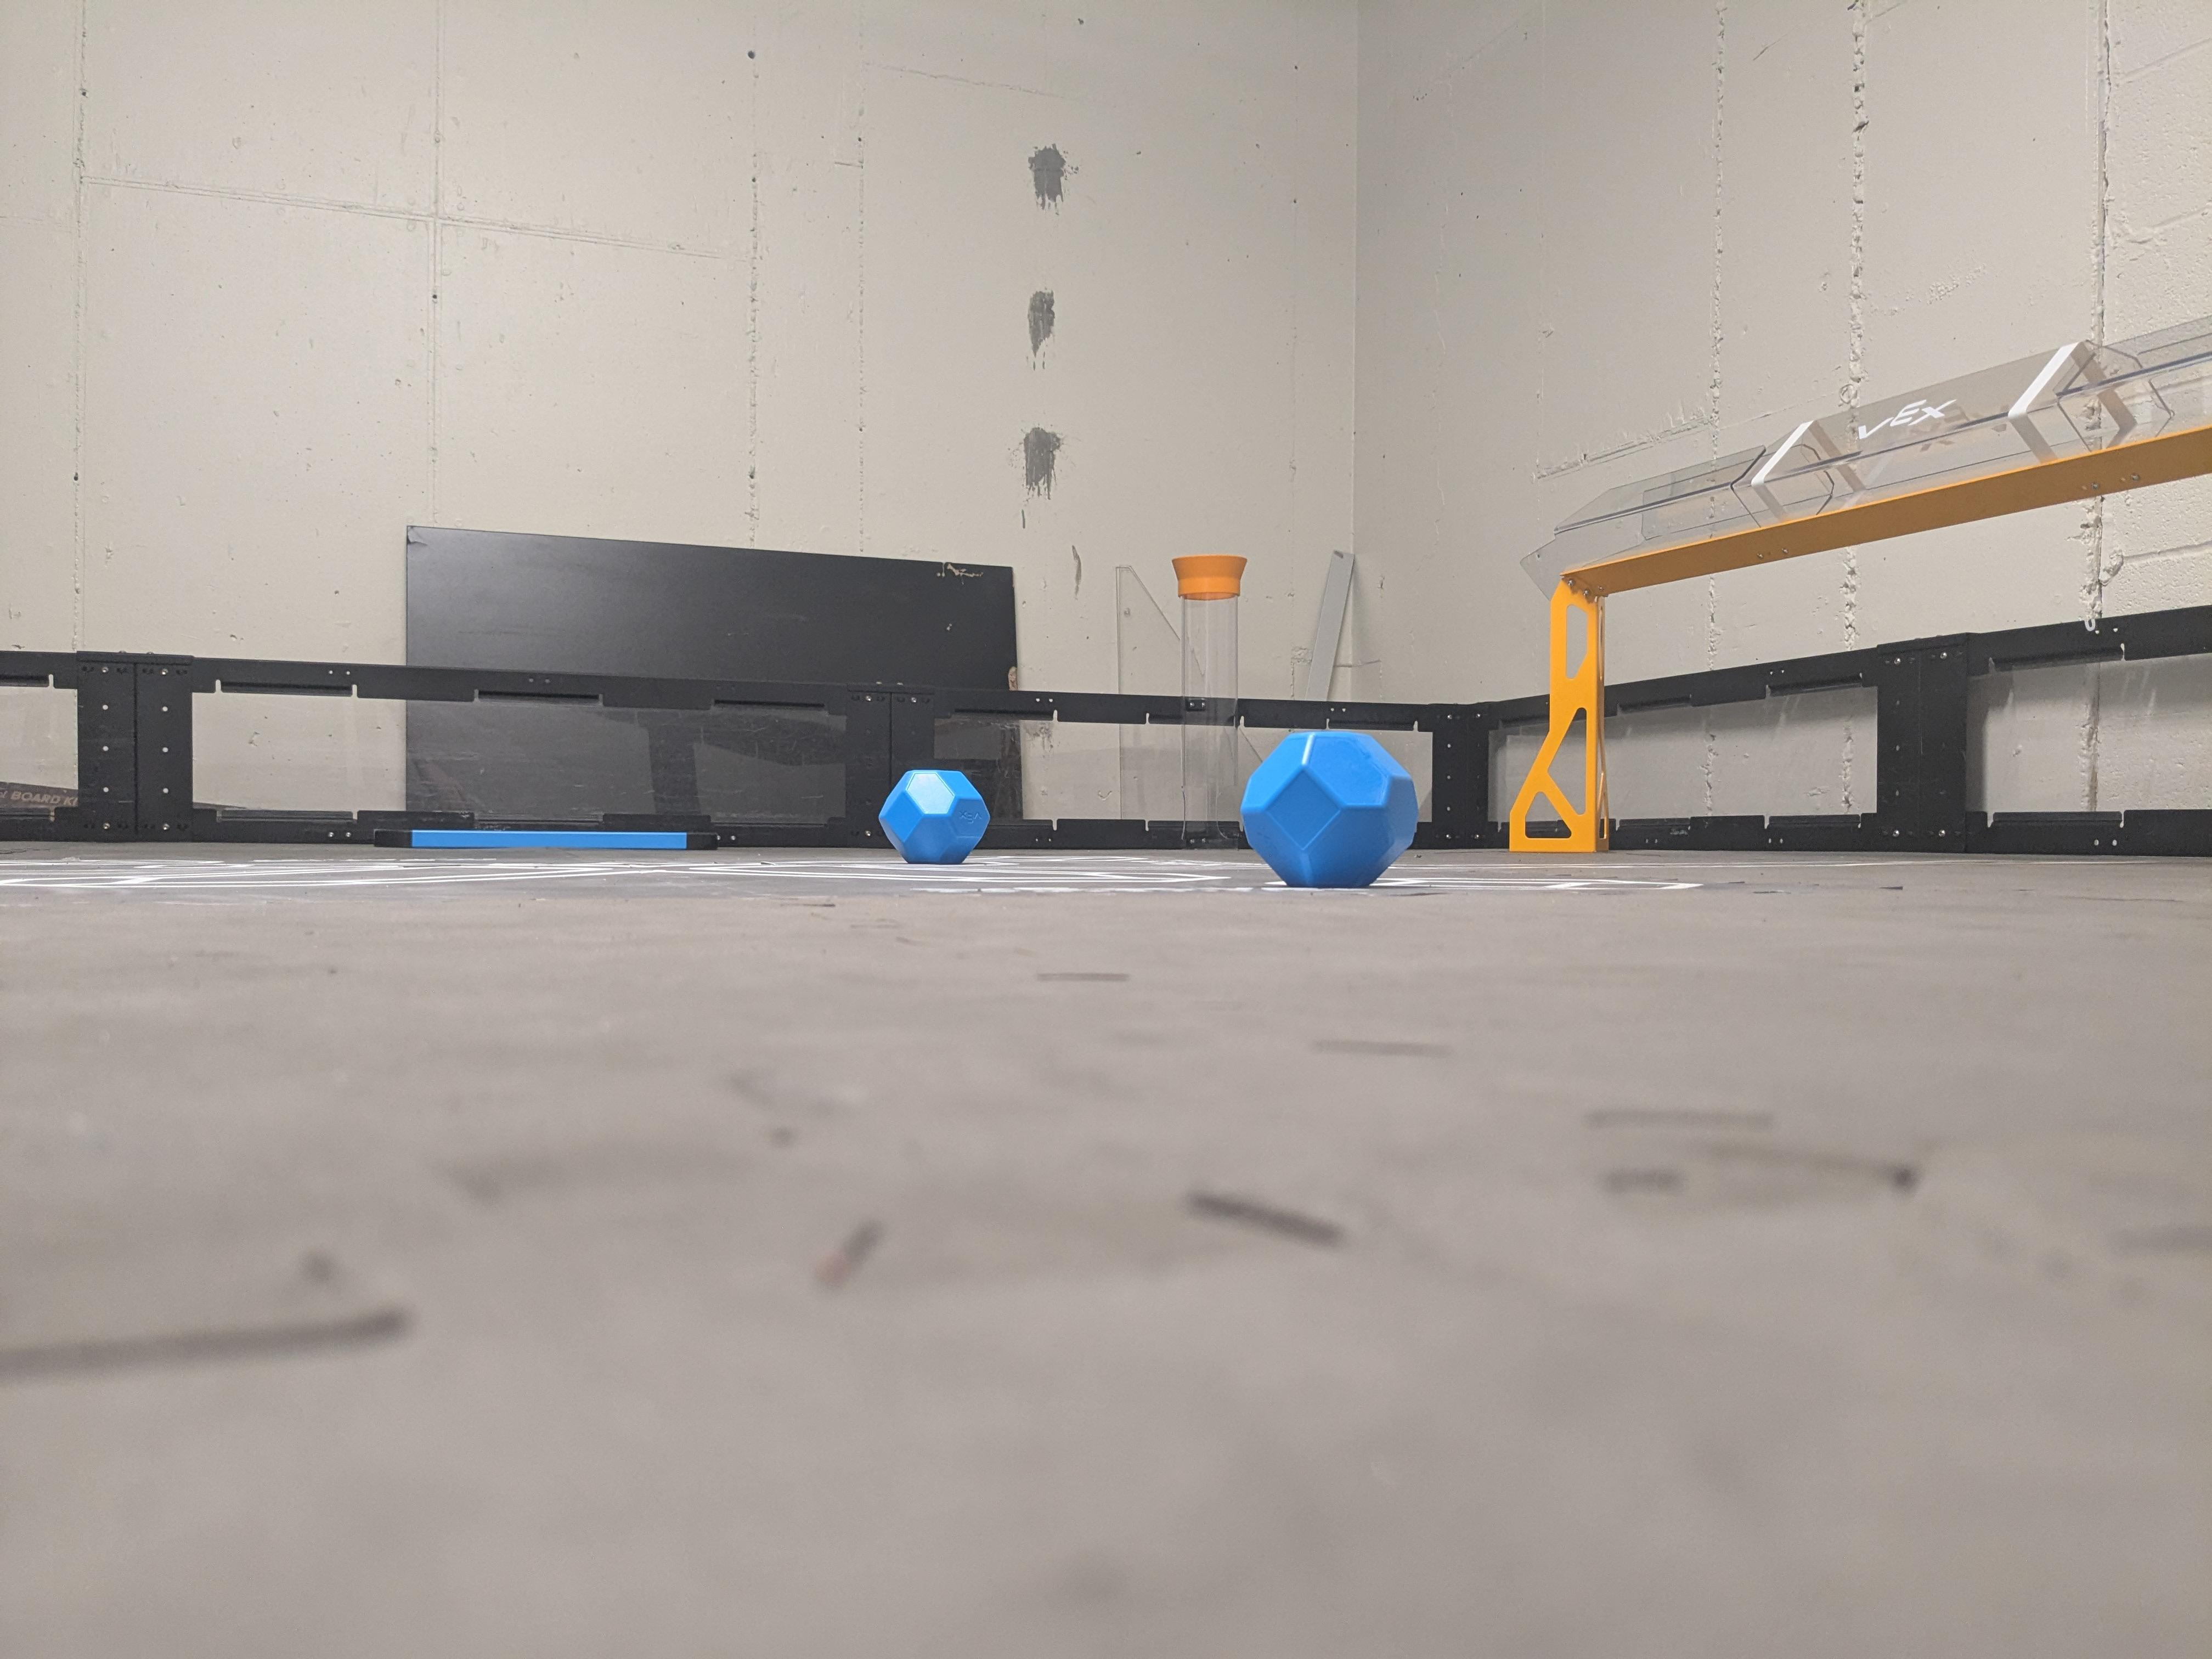Vex-Pieces-BLUE: (1244, 734, 1420, 889), (881, 770, 991, 861)
